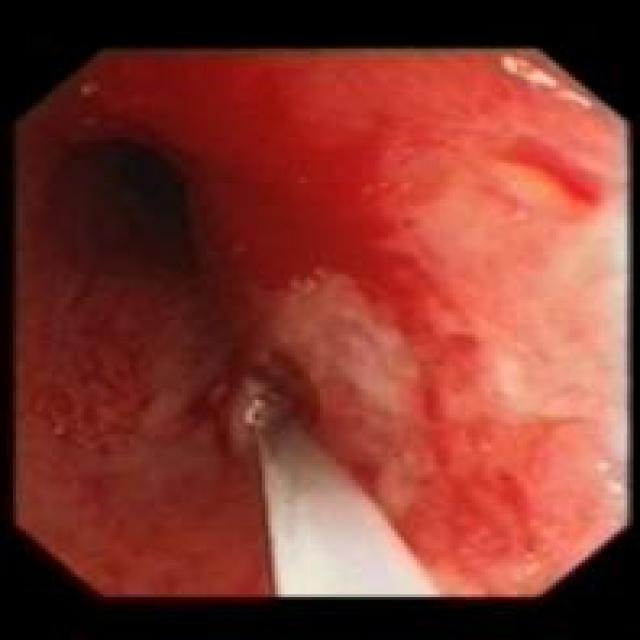blood: (75, 57, 561, 415)
contrast: (19, 89, 255, 390)
instrument: (230, 375, 440, 595)
saturation: (468, 137, 627, 506), (269, 494, 433, 594)
